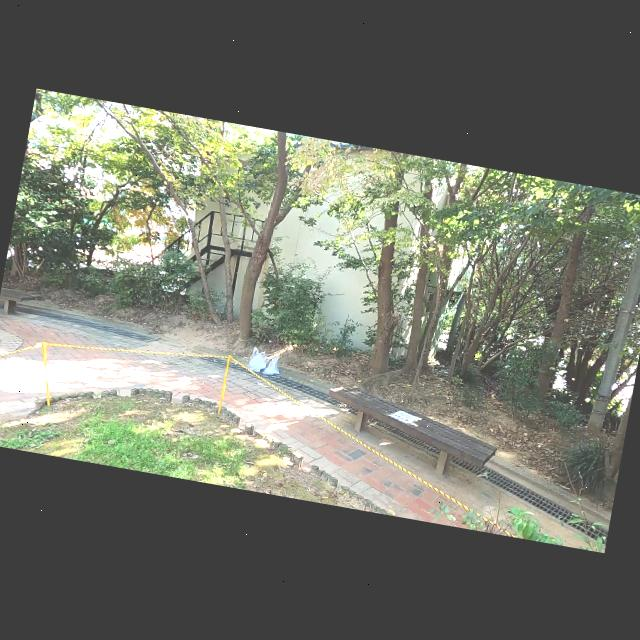trash: (250, 347, 270, 373), (265, 352, 283, 373)
